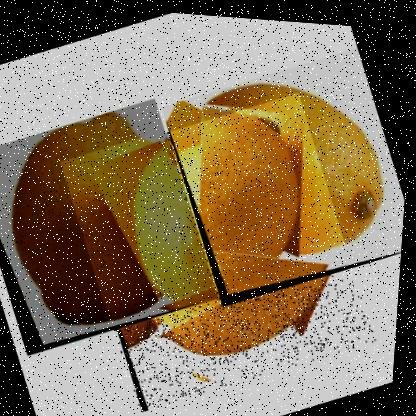lemon: (50, 73, 393, 415), (151, 30, 414, 315), (0, 86, 232, 370)
